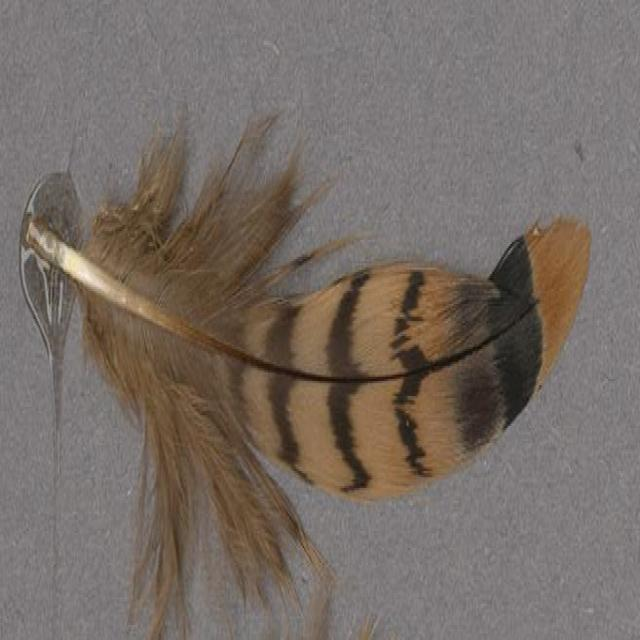feather: (29, 102, 592, 640)
